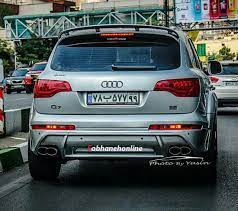car: (84, 91, 143, 106), (225, 80, 237, 87)
